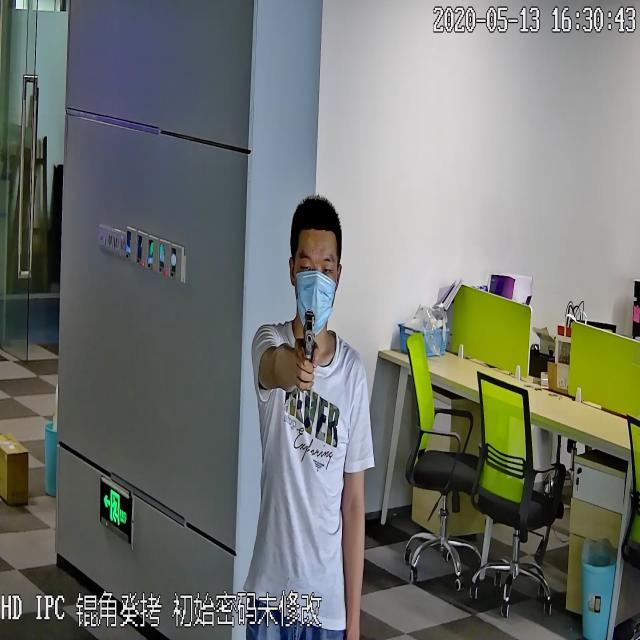gun: (297, 306, 317, 395)
